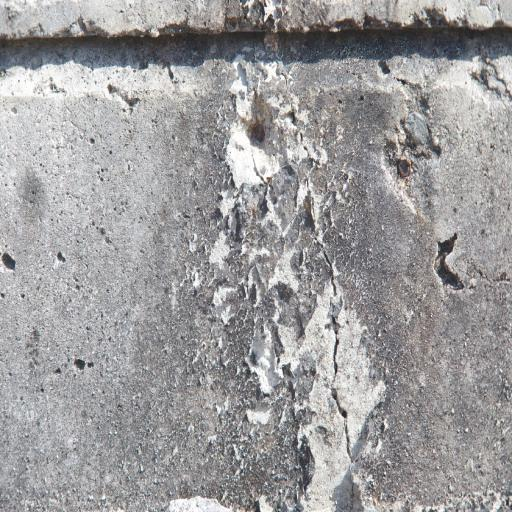exposed_rebar: (397, 160, 411, 178), (253, 124, 264, 142)
